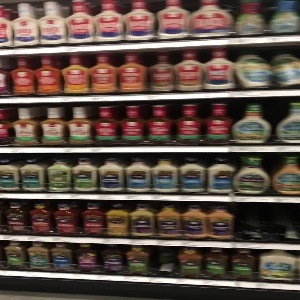void: (231, 205, 300, 239), (149, 249, 179, 279)
